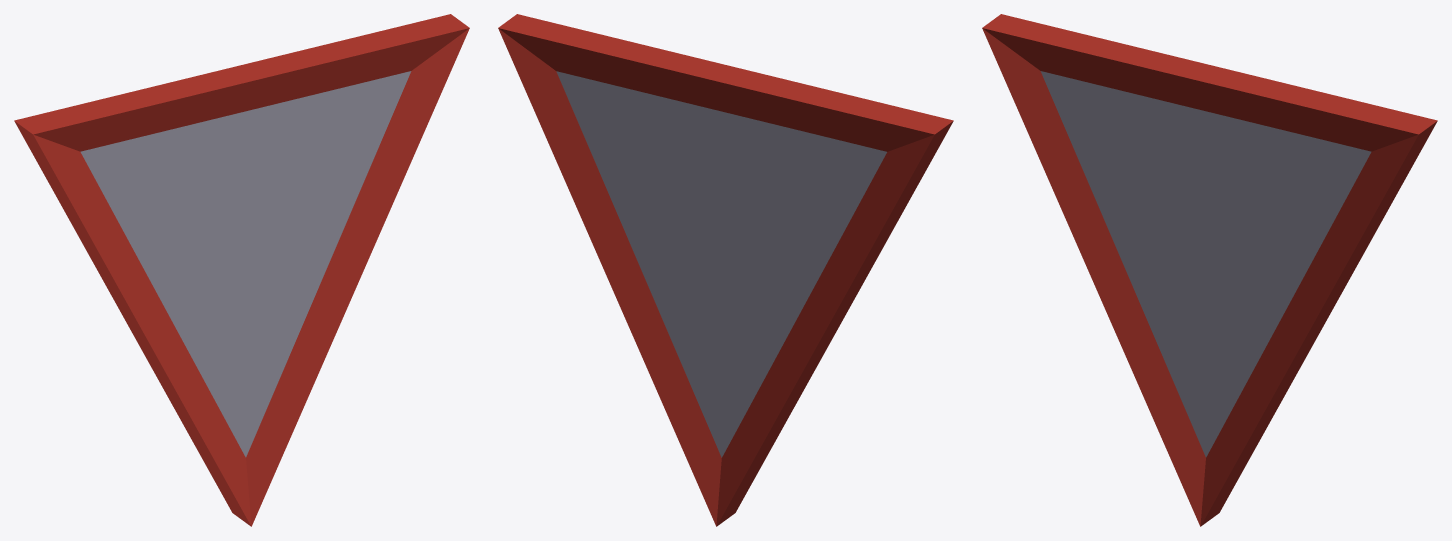
File: indicator.glb
The picture shows the model from 3 angles, left to right: view 1: azimuth 30°, elevation 25°; view 2: azimuth 150°, elevation 25°; view 3: azimuth 330°, elevation 25°; orthographic projection.
Visible parts, largest first — view 1: Plane; view 2: Plane; view 3: Plane.
Boxes of the visible parts, x1,y1,x2,y2 form: Plane: [14, 14, 469, 526]; Plane: [498, 14, 953, 526]; Plane: [982, 14, 1437, 526].
Bounding box in the file's own units: 0.4404 × 0.4294 × 0.0334.
